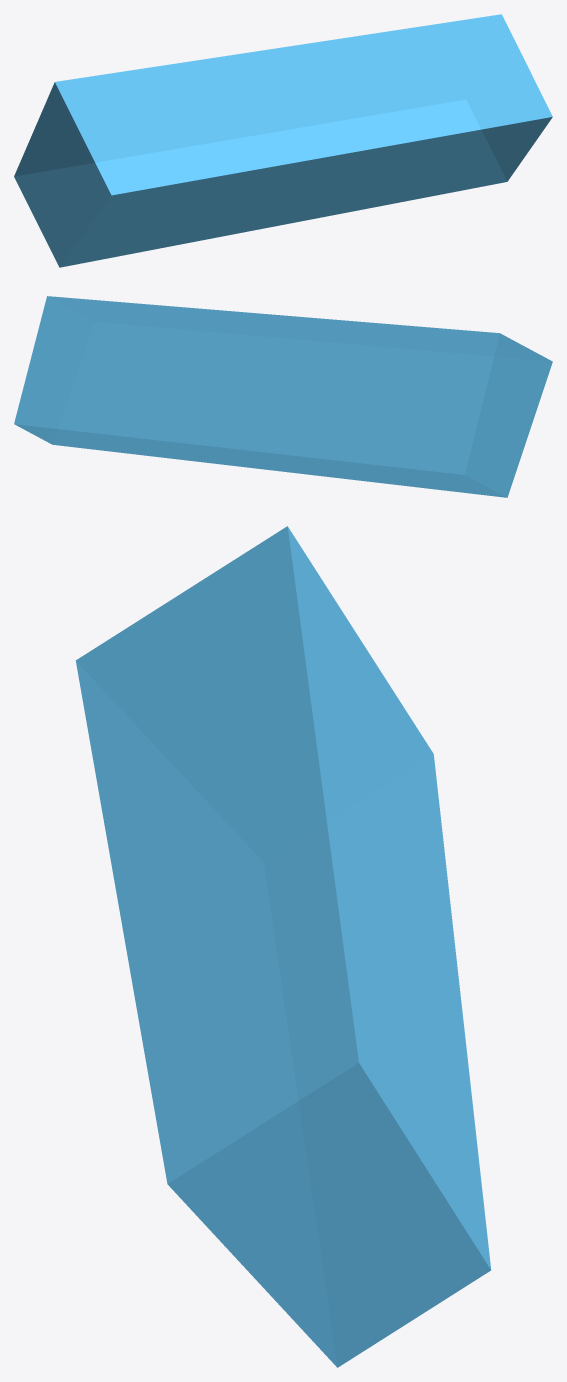
The model's file is Event_421364160_HErechit_11.fbx.
3 views of the same model, one above another, from view 1: azimuth 30°, elevation 25°; view 2: azimuth 150°, elevation 25°; view 3: azimuth 270°, elevation 25° (orthographic). The views are drawn at different scales.
Parts seen in each view (by area): view 1: Model; view 2: Model; view 3: Model.
Part boxes in pixels (bbox=[...]): Model: bbox=[14, 14, 552, 267]; Model: bbox=[14, 296, 552, 497]; Model: bbox=[75, 526, 491, 1367].
Size of the model in its own units: 1.09 by 0.4958 by 0.4475.
